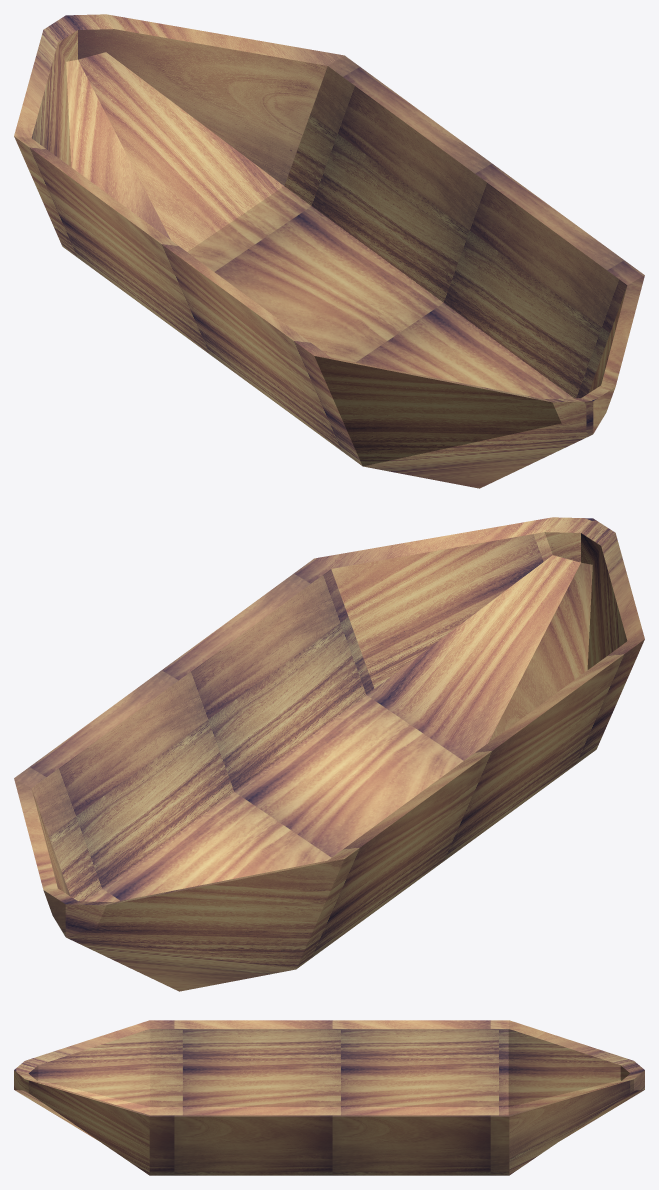
The model's file is ship.fbx.
3 views of the same model, one above another, from view 1: azimuth 30°, elevation 25°; view 2: azimuth 150°, elevation 25°; view 3: azimuth 270°, elevation 25° (orthographic). The views are drawn at different scales.
Visible parts, largest first — view 1: 圓柱體; view 2: 圓柱體; view 3: 圓柱體.
Boxes of the visible parts, <box> form: 圓柱體: <box>14,14,644,488</box>; 圓柱體: <box>14,517,644,991</box>; 圓柱體: <box>14,1020,644,1175</box>.
Bounding box in the file's own units: 200 × 100 × 553.
1 material, 1 textured.
